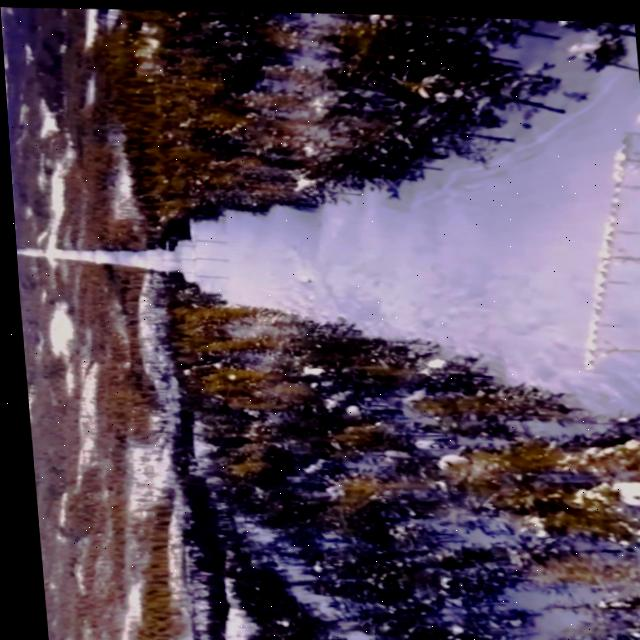poles: (579, 126, 640, 361), (185, 233, 227, 281)
